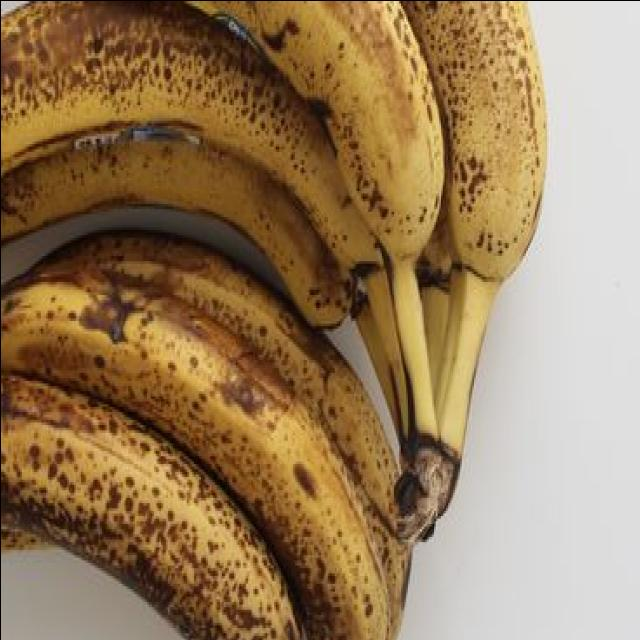banana: (0, 0, 404, 429), (22, 231, 411, 640), (0, 278, 387, 640), (0, 133, 394, 433), (182, 0, 444, 422), (0, 379, 301, 640), (397, 0, 543, 427), (417, 217, 455, 377)
